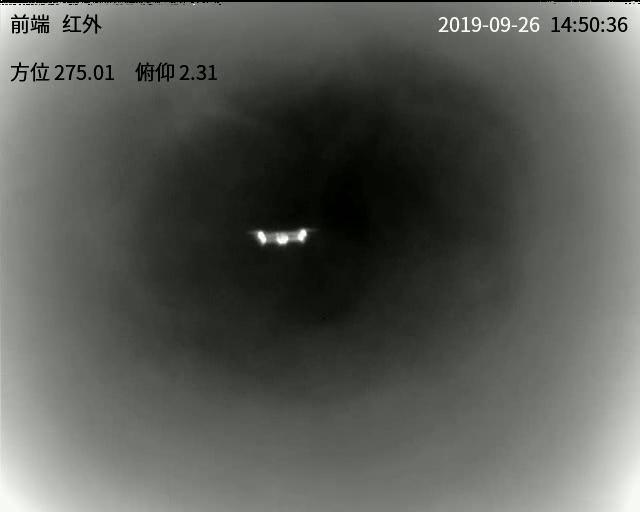DRONE: (256, 226, 308, 248)
